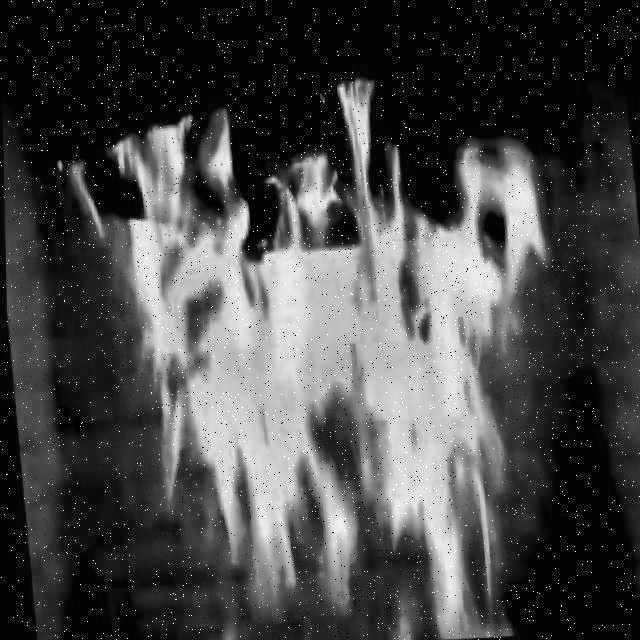Fire: (58, 47, 585, 640)
